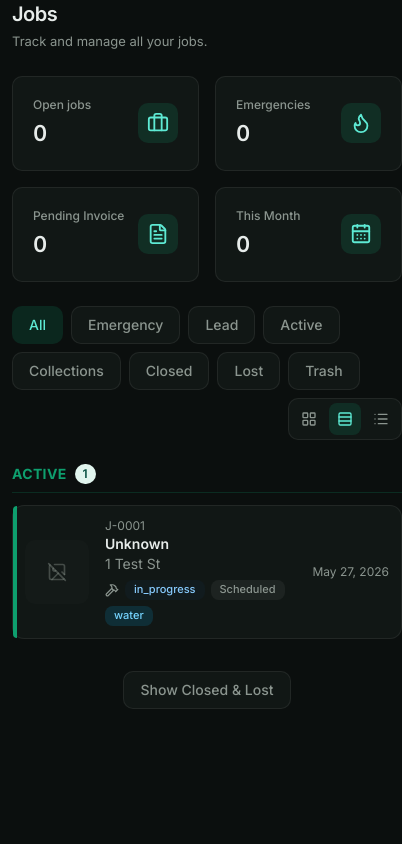
Scenario: Jobs page — hide Closed & Lost by default (#728) › hides the Closed & Lost sections again when the toggle is turned back off
Expected: the element with test id "section-in_progress" is shown, left=12, top=464, right=401, bottom=638
// On — Closed & Lost revealed.
Click the button with test id "toggle-closed-lost": click(207, 690) left=124, top=670, right=290, bottom=708
(page scrolled)
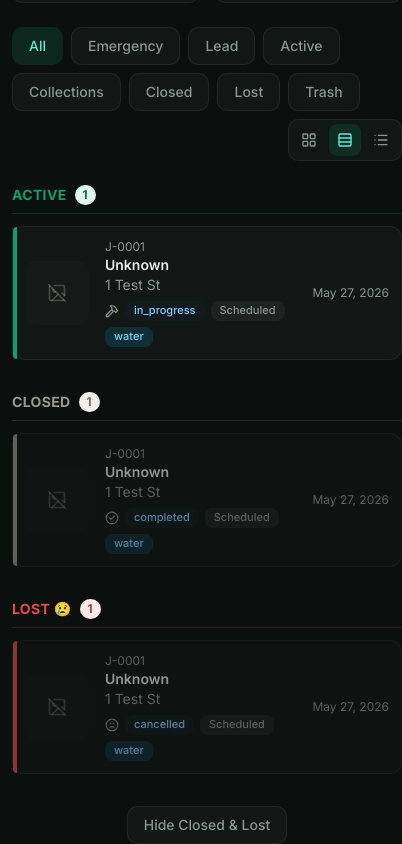
Now the element with test id "section-completed" is shown, box left=12, top=392, right=401, bottom=566
// Off again — they hide once more.
Click the button with test id "toggle-closed-lost": click(207, 824) left=127, top=806, right=287, bottom=843
(page scrolled)
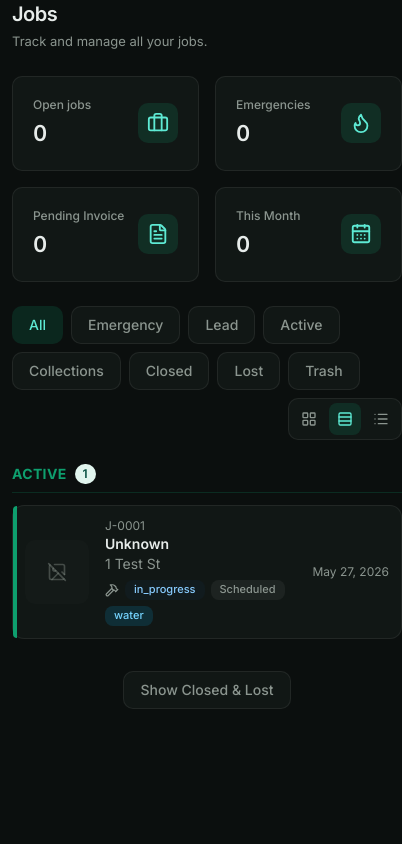
Now the element with test id "section-completed" is gone
Now the element with test id "section-cancelled" is gone
